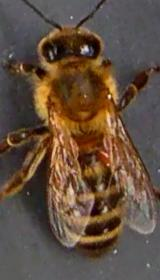varroa_mite: (87, 144, 118, 166)
